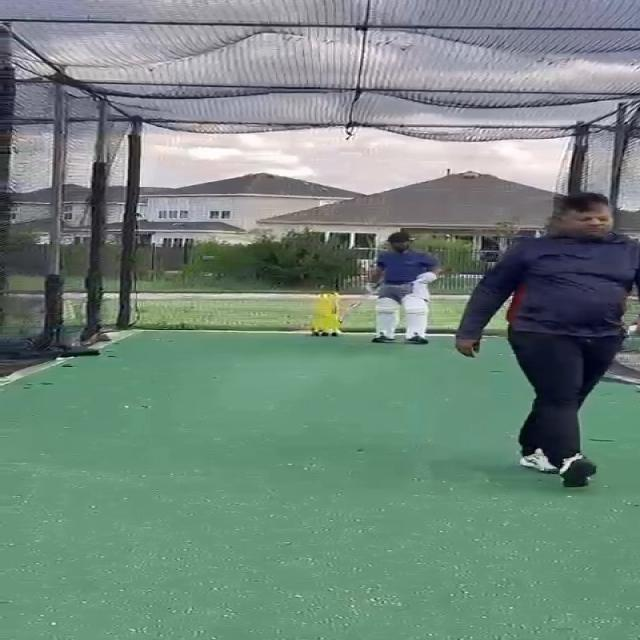batsman: (336, 230, 444, 346)
